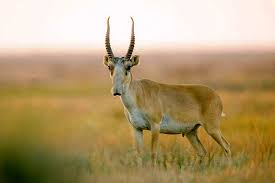saiga: (102, 14, 236, 175)
